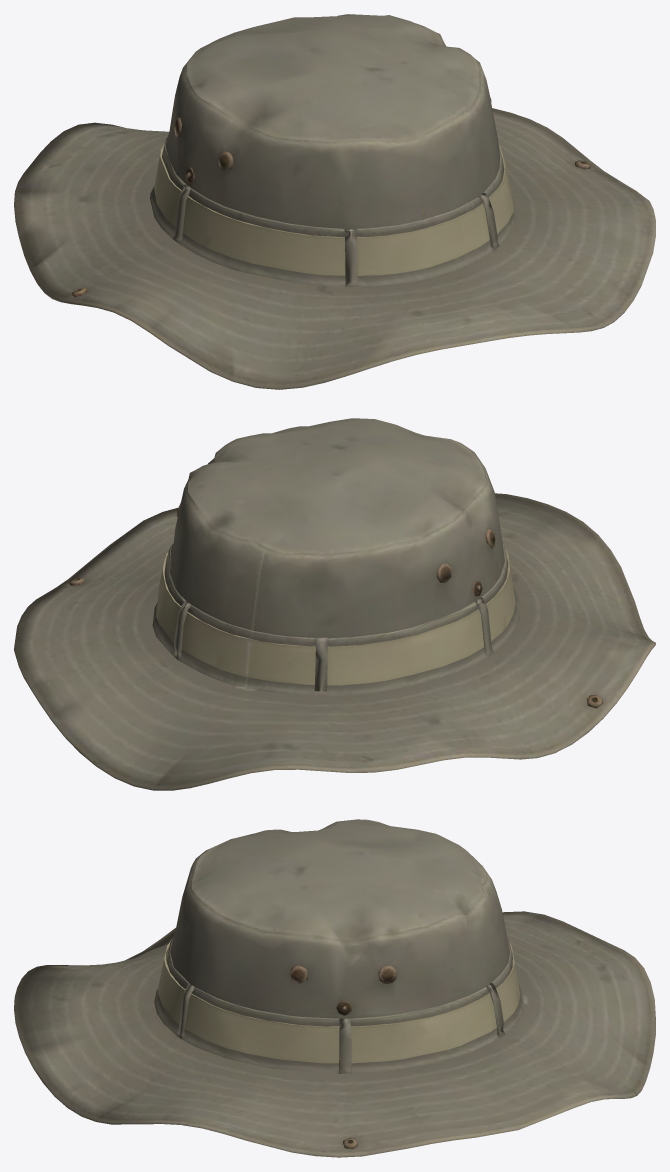
Rendered from fishermans_hat.glb.
3 views of the same model, one above another, from view 1: azimuth 30°, elevation 25°; view 2: azimuth 150°, elevation 25°; view 3: azimuth 270°, elevation 25° (orthographic). The views are drawn at different scales.
Visible parts, largest first — view 1: fishermans_hat; view 2: fishermans_hat; view 3: fishermans_hat.
Boxes of the visible parts, box(x1,y1,x2,y2) form: fishermans_hat: box(14, 14, 655, 389); fishermans_hat: box(14, 418, 655, 790); fishermans_hat: box(14, 819, 655, 1157).
Bounding box in the file's own units: 0.3236 × 0.124 × 0.3498.
Materials: 1 (1 with a texture image).
